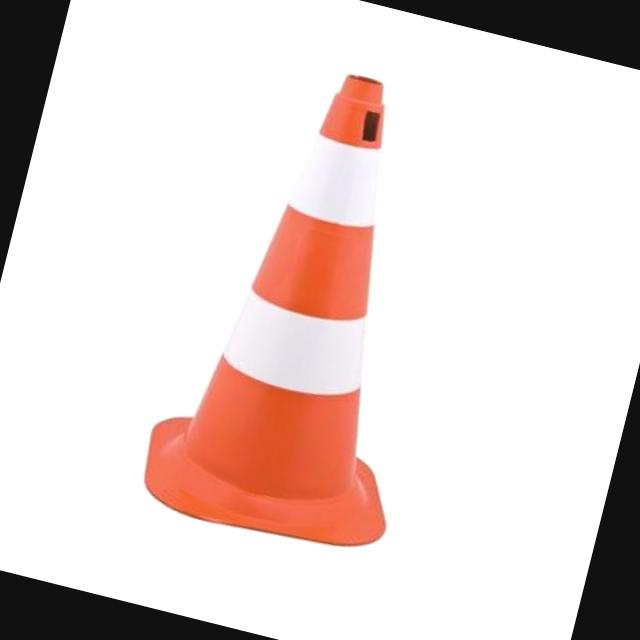cone: (144, 40, 480, 549)
